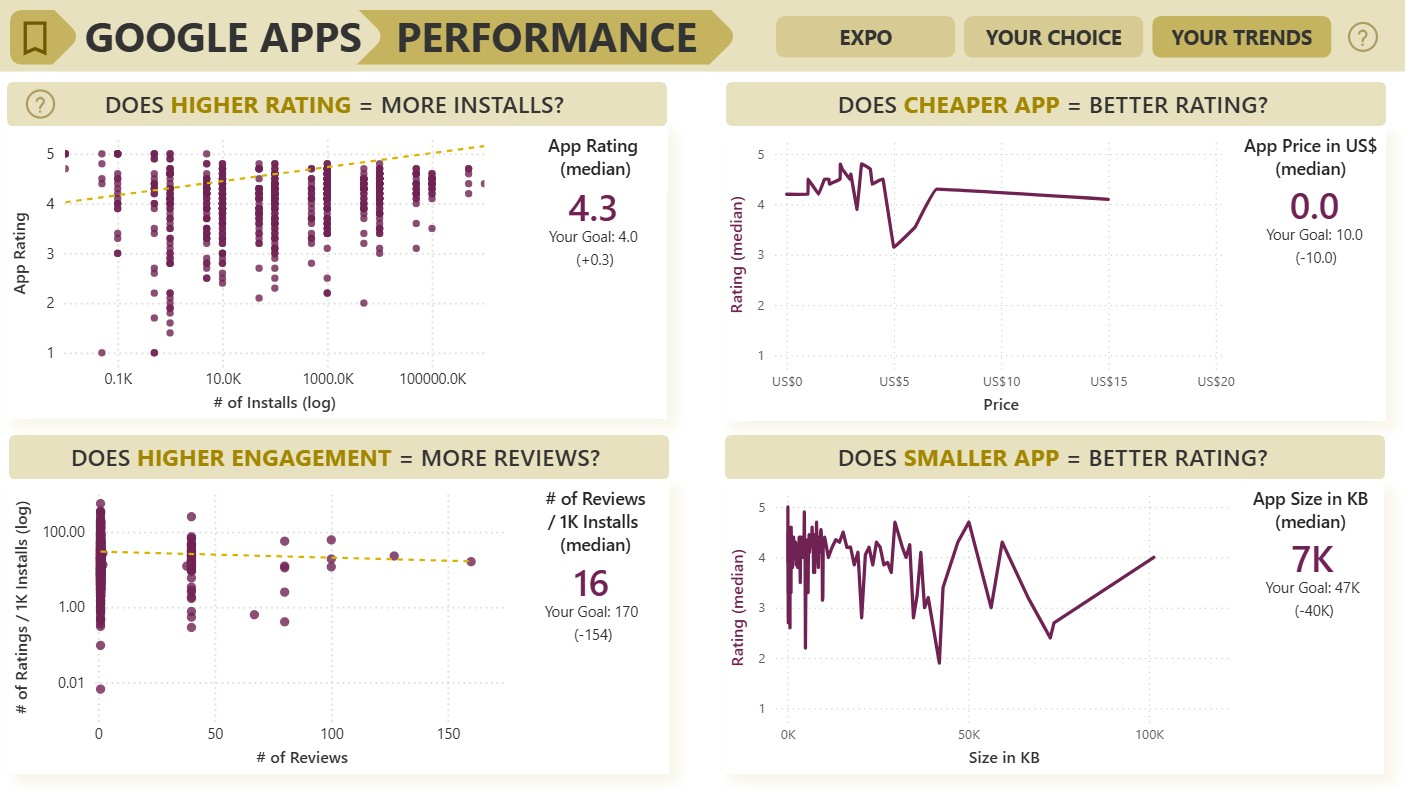

Layout of this report page (visuals, bound fields, positions):
{"tool":"powerbi","page":{"name":"YOUR TRENDS","canvas":[1280,720],"ordinal":2},"visuals":[{"type":"shape","title":"Top background shape","box":[0,0,1280,66.2],"z":0,"group":"g3"},{"type":"group","id":"g1","title":"RIGHT SECTION","box":[659,75,603,628.6],"z":0},{"type":"shape","title":"Backplot shape","box":[659,437.4,600.1,266.1],"z":0,"group":"g1"},{"type":"shape","title":"Backplot shape","box":[9.2,437.5,600.1,266.1],"z":0,"group":"g2"},{"type":"shape","title":"Top foreground shape","box":[9.9,9.9,682.6,49.7],"z":1000,"group":"g3"},{"type":"group","id":"g2","title":"LEFT SECTION","box":[7.5,75.1,602,628.6],"z":1000},{"type":"kpi","title":"Goal App Size","fields":{"Indicator":["_Measures.Med Size KB"],"Goal":["goal_AppSize.goal_AppSize Value"],"TrendLine":["dim_App.Last Updated.Variation.Date Hierarchy.Year"]},"box":[1128.1,458.1,131.7,131.7],"z":1000,"group":"g1"},{"type":"kpi","title":"Goal # of Reviews / 1K Installs","fields":{"Indicator":["_Measures.Med Ratings per1K Installs"],"Goal":["goal_Ratings/1KInstalls .goal_Ratings/1KInstalls  Value"],"TrendLine":["dim_App.Last Updated.Variation.Date Hierarchy.Year"]},"box":[484.2,492,109.9,105.6],"z":1000,"group":"g2"},{"type":"actionButton","title":"Top question button","box":[1220.4,15.6,39.7,38.3],"z":2000,"group":"g3"},{"type":"textbox","title":"App Size","box":[1126.5,437.6,131.7,57.7],"z":2000,"group":"g1"},{"type":"textbox","title":"# of Reviews / 1K Installs","box":[476.6,437.7,131.7,78.4],"z":2000,"group":"g2"},{"type":"group","id":"g3","title":"TOP SECTION","box":[0,0,1280,66.2],"z":3000},{"type":"shape","title":"Arrow shape 2","box":[42.4,3,308.3,62.5],"z":3000,"group":"g3"},{"type":"lineChart","title":"DOES SMALLER APP = BETTER RATING?","fields":{"Y":["Median(dim_App.Rating Value)"],"Category":["dim_App.Size KB"]},"box":[659.5,436,470,267],"z":3000,"group":"g1"},{"type":"scatterChart","title":"DOES HIGH ENGAGEMENT = MORE REVIEWS","fields":{"Category":["dim_App.App_id"],"X":["_Measures.Indiv Count of Reviews"],"Y":["_Measures.Indiv Ratings Count per1K Installs"]},"box":[9.5,436.1,470,267],"z":3000,"group":"g2"},{"type":"shape","title":"Arrow shape 1","box":[640,3,77.4,62.5],"z":4000,"group":"g3"},{"type":"shape","title":"Right subtitle 2 shape","box":[660.3,396,600,40.4],"z":4000,"group":"g1"},{"type":"shape","title":"Left subtitle 2 shape","box":[9.5,396.1,600,40.3],"z":4000,"group":"g2"},{"type":"actionButton","title":"PANEL TURN ON","box":[13,15.1,40.3,40.3],"z":5000},{"type":"pageNavigator","box":[706.4,15.8,506.5,38.2],"z":5000,"group":"g3"},{"type":"textbox","title":"Right subtitle 2: Does smaller app = better rating?","box":[660.6,399,600,36],"z":5000,"group":"g1"},{"type":"textbox","title":"Left subtitle 2: Does high engagement = more reviews?","box":[9.5,399.1,600,36],"z":5000,"group":"g2"},{"type":"textbox","title":"Top title text","box":[9.9,3,682.6,62.4],"z":6000,"group":"g3"},{"type":"shape","title":"Backplot shape","box":[7.5,115.1,600.1,266],"z":6000,"group":"g2"},{"type":"shape","title":"Backplot shape","box":[661.2,116.4,600.1,266.1],"z":6000,"group":"g1"},{"type":"kpi","title":"Goal App Rating","fields":{"Goal":["goal_AppRating.goal_AppRating Value"],"Indicator":["Median(dim_App.Rating Value)"],"TrendLine":["dim_App.Last Updated.Variation.Date Hierarchy.Year"]},"box":[481,157.8,118.6,93.6],"z":6500,"group":"g2"},{"type":"kpi","title":"Goal App Price","fields":{"Indicator":["_Measures.Med Price USD"],"Goal":["goal_AppPrice.goal_AppPrice Value"],"TrendLine":["dim_App.Last Updated.Variation.Date Hierarchy.Year"]},"box":[1130.3,155.5,131.7,93.6],"z":7000,"group":"g1"},{"type":"textbox","title":"App Rating (median)","box":[477,116.5,131.7,57.7],"z":7001,"group":"g2"},{"type":"textbox","title":"App Price","box":[1126.5,116.5,132,57.7],"z":8000,"group":"g1"},{"type":"lineChart","title":"DOES CHEAPER APP = BETTER RATING?","fields":{"Y":["_Measures.Med Rating"],"Category":["dim_App.Price USD"]},"box":[659,115,470,267],"z":9000,"group":"g1"},{"type":"scatterChart","title":"DOES HIGH RATING = MORE INSTALLS?","fields":{"Y":["_Measures.Indiv Rating"],"X":["_Measures.Indiv Installs"],"Category":["dim_App.App_id"]},"box":[7.5,115.1,470,265.5],"z":9000,"group":"g2"},{"type":"shape","title":"Right subtitle 1 shape","box":[660.6,75,600,40],"z":10000,"group":"g1"},{"type":"shape","title":"Left subtitle 1 shape","box":[7.5,75.1,600,40.3],"z":10000,"group":"g2"},{"type":"textbox","title":"Left subtitle 1: Does high rating = more instals?","box":[8.5,75.1,600,36],"z":11000,"group":"g2"},{"type":"textbox","title":"Right subtitle 1: Does cheaper app = better rating?","box":[660.6,78,600.5,36],"z":11000,"group":"g1"},{"type":"actionButton","title":"Left question button","box":[19.7,75.1,37.3,39],"z":12000,"group":"g2"}]}

Visuals, with their boxes in screenshot pixels (x1, y1, x2, y2), scaled from the page's 1280x720 canvas onto the 1405x789 screenshot:
"Top background shape" shape: (left=0, top=0, right=1404, bottom=73)
"RIGHT SECTION" group: (left=723, top=82, right=1385, bottom=771)
"Backplot shape" shape: (left=723, top=479, right=1382, bottom=771)
"Backplot shape" shape: (left=10, top=479, right=669, bottom=771)
"Top foreground shape" shape: (left=11, top=11, right=760, bottom=65)
"LEFT SECTION" group: (left=8, top=82, right=669, bottom=771)
"Goal App Size" kpi: (left=1238, top=502, right=1383, bottom=646)
"Goal # of Reviews / 1K Installs" kpi: (left=531, top=539, right=652, bottom=655)
"Top question button" actionButton: (left=1340, top=17, right=1383, bottom=59)
"App Size" textbox: (left=1237, top=480, right=1381, bottom=543)
"# of Reviews / 1K Installs" textbox: (left=523, top=480, right=668, bottom=566)
"TOP SECTION" group: (left=0, top=0, right=1404, bottom=73)
"Arrow shape 2" shape: (left=47, top=3, right=385, bottom=72)
"DOES SMALLER APP = BETTER RATING?" lineChart: (left=724, top=478, right=1240, bottom=770)
"DOES HIGH ENGAGEMENT = MORE REVIEWS" scatterChart: (left=10, top=478, right=526, bottom=770)
"Arrow shape 1" shape: (left=702, top=3, right=787, bottom=72)
"Right subtitle 2 shape" shape: (left=725, top=434, right=1383, bottom=478)
"Left subtitle 2 shape" shape: (left=10, top=434, right=669, bottom=478)
"PANEL TURN ON" actionButton: (left=14, top=17, right=59, bottom=61)
pageNavigator: (left=775, top=17, right=1331, bottom=59)
"Right subtitle 2: Does smaller app = better rating?" textbox: (left=725, top=437, right=1384, bottom=477)
"Left subtitle 2: Does high engagement = more reviews?" textbox: (left=10, top=437, right=669, bottom=477)
"Top title text" textbox: (left=11, top=3, right=760, bottom=72)
"Backplot shape" shape: (left=8, top=126, right=667, bottom=418)
"Backplot shape" shape: (left=726, top=128, right=1384, bottom=419)
"Goal App Rating" kpi: (left=528, top=173, right=658, bottom=275)
"Goal App Price" kpi: (left=1241, top=170, right=1385, bottom=273)
"App Rating (median)" textbox: (left=524, top=128, right=668, bottom=191)
"App Price" textbox: (left=1237, top=128, right=1381, bottom=191)
"DOES CHEAPER APP = BETTER RATING?" lineChart: (left=723, top=126, right=1239, bottom=419)
"DOES HIGH RATING = MORE INSTALLS?" scatterChart: (left=8, top=126, right=524, bottom=417)
"Right subtitle 1 shape" shape: (left=725, top=82, right=1384, bottom=126)
"Left subtitle 1 shape" shape: (left=8, top=82, right=667, bottom=126)
"Left subtitle 1: Does high rating = more instals?" textbox: (left=9, top=82, right=668, bottom=122)
"Right subtitle 1: Does cheaper app = better rating?" textbox: (left=725, top=85, right=1384, bottom=125)
"Left question button" actionButton: (left=22, top=82, right=63, bottom=125)
